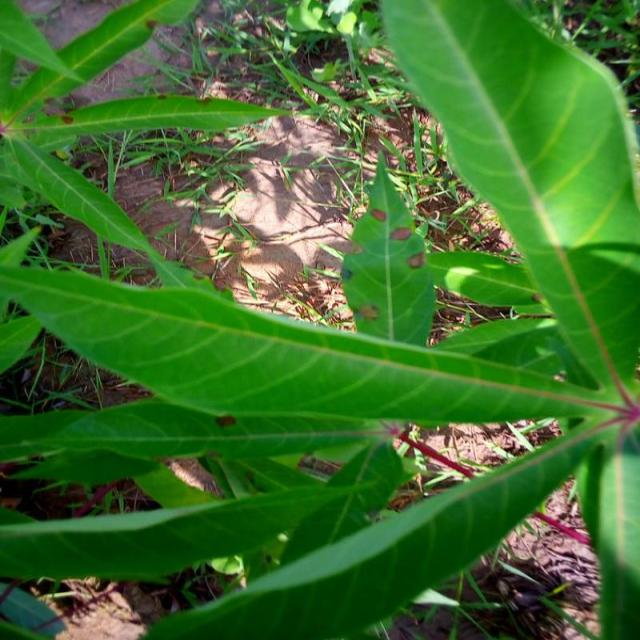cassava leaf: (1, 1, 638, 638), (378, 0, 640, 396)
